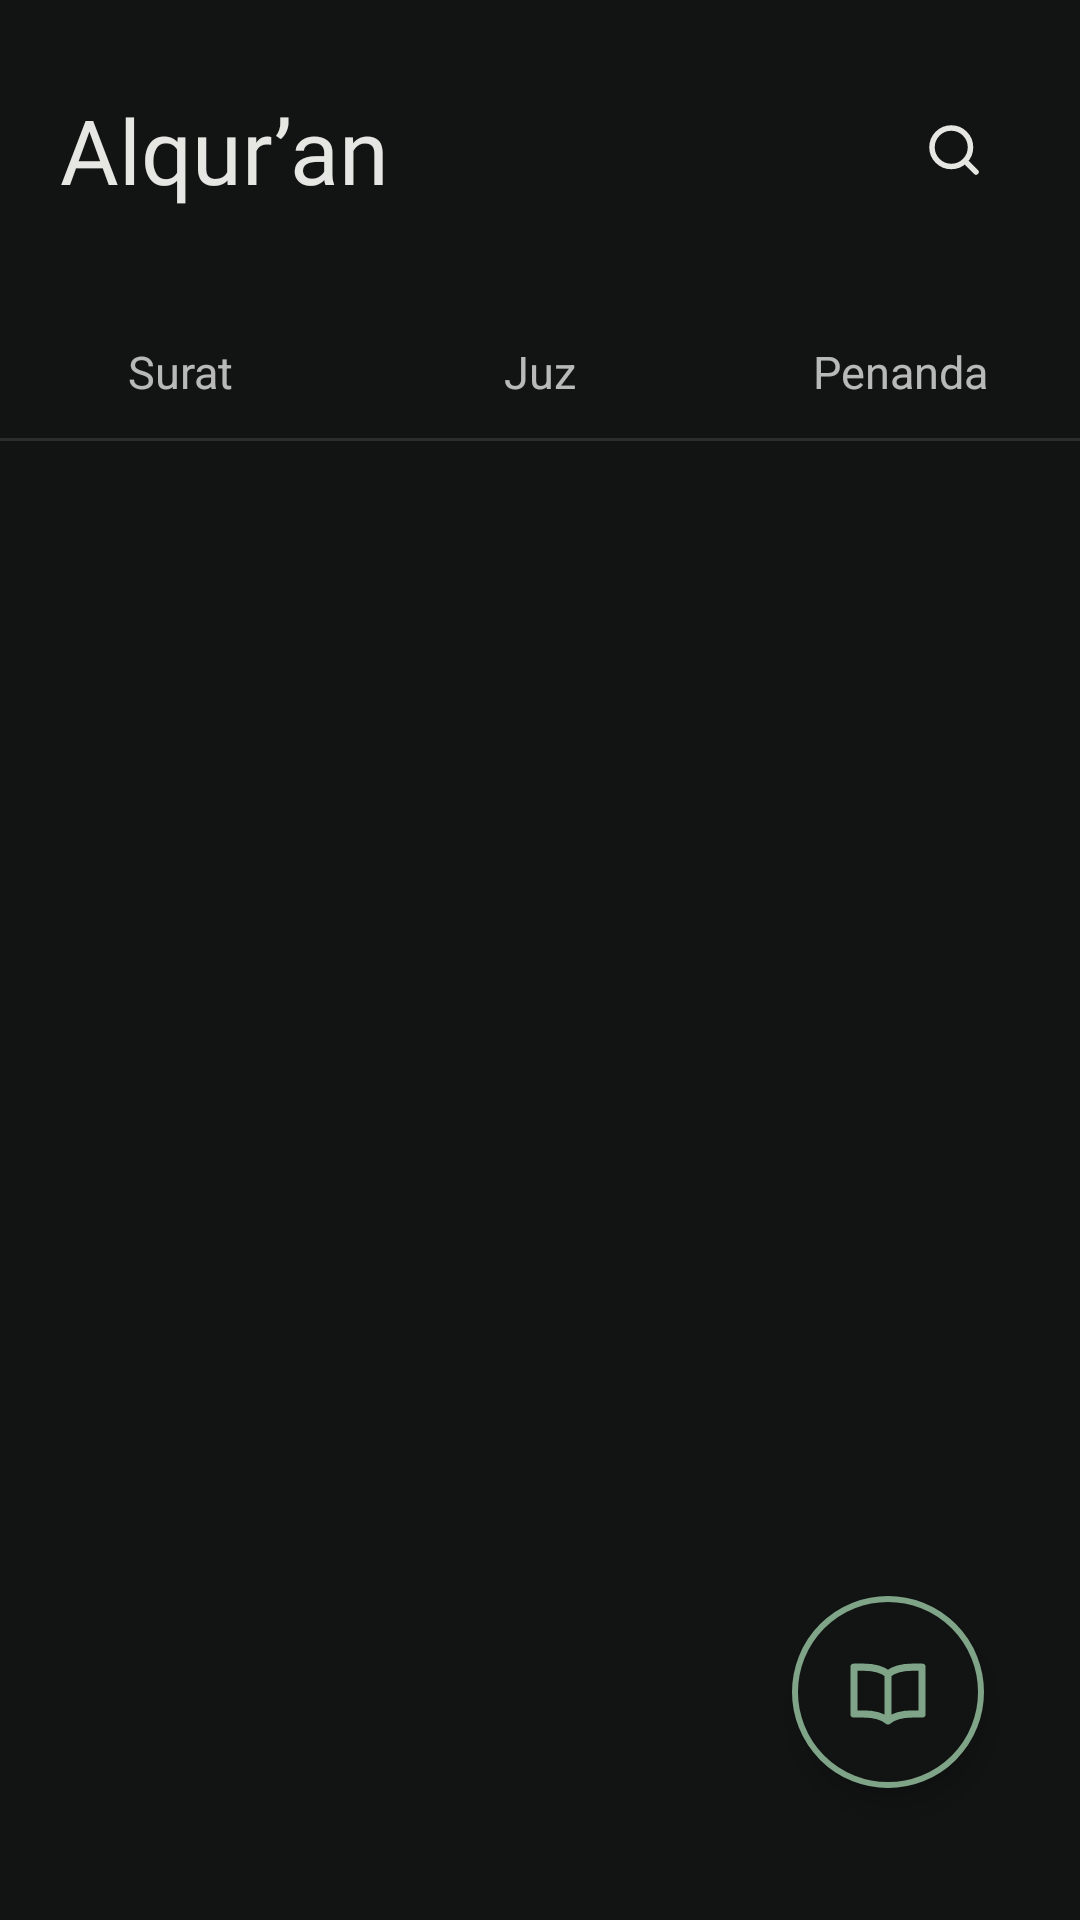

Screen size 1080 × 1920. Icon name, then its center in pixels as (x=x, y=y):
Cari surat: (x=954, y=150)
Halaman terakhir dibaca: (x=888, y=1692)
